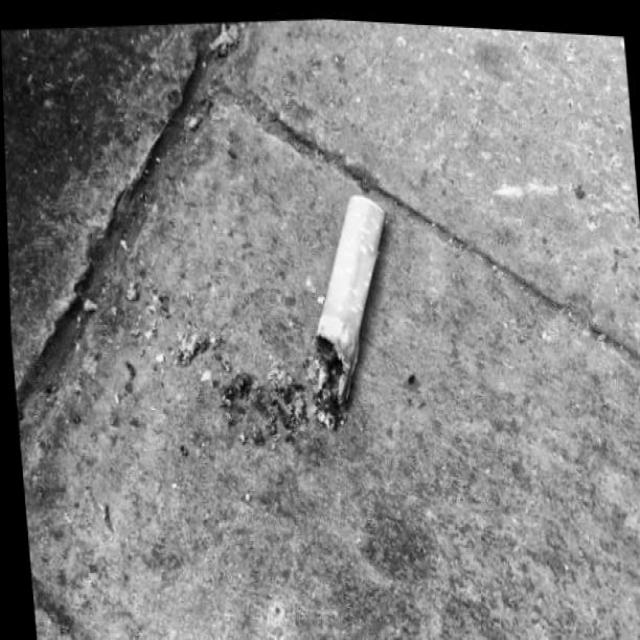cigarette: (297, 178, 401, 396)
